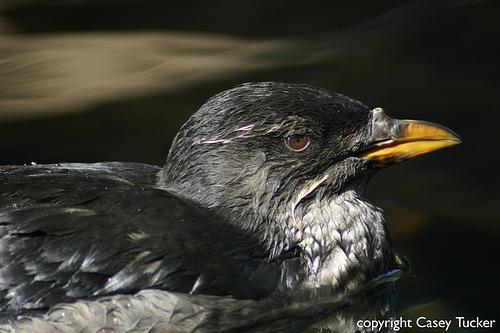008.Rhinoceros_Auklet: (3, 79, 466, 333)
